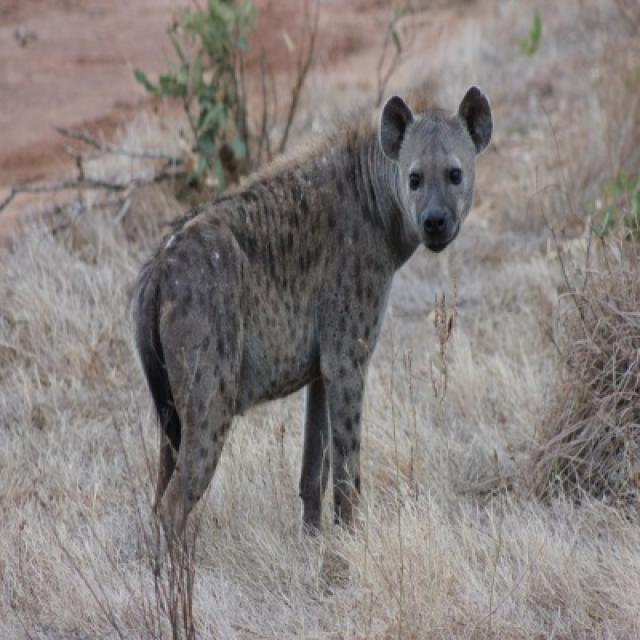hyena: (128, 86, 494, 558)
